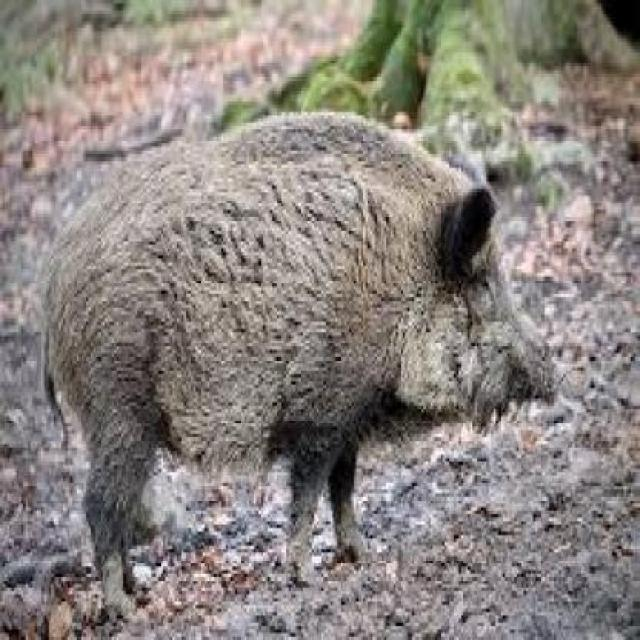wildboar: (37, 98, 563, 619)
